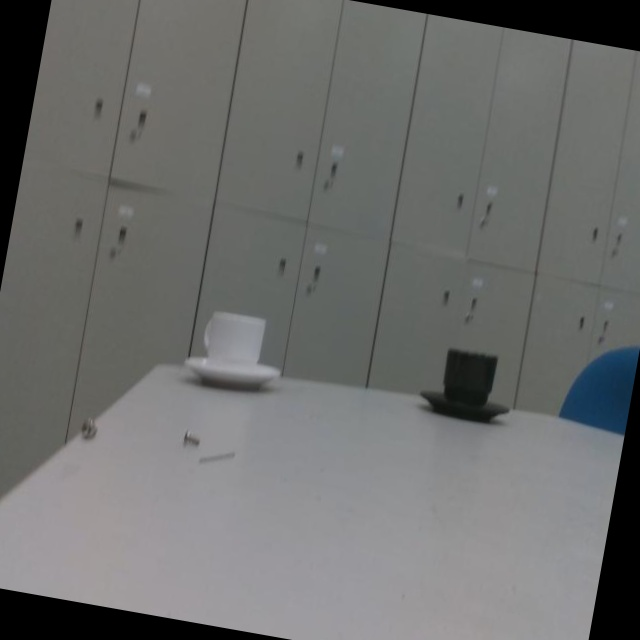black: (420, 350, 513, 423)
white: (183, 314, 285, 394)
